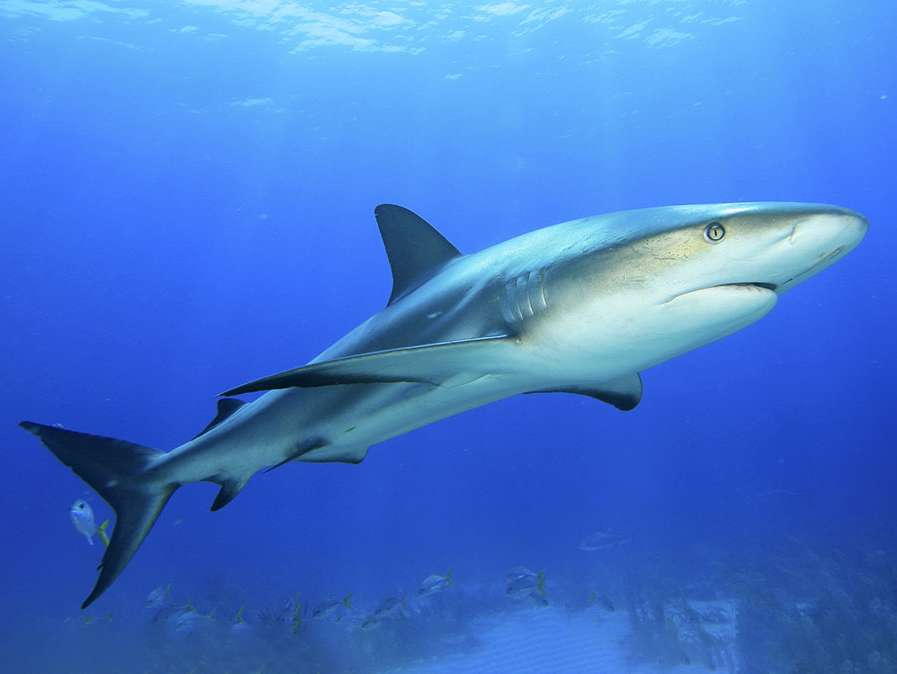shark: (37, 154, 866, 596)
